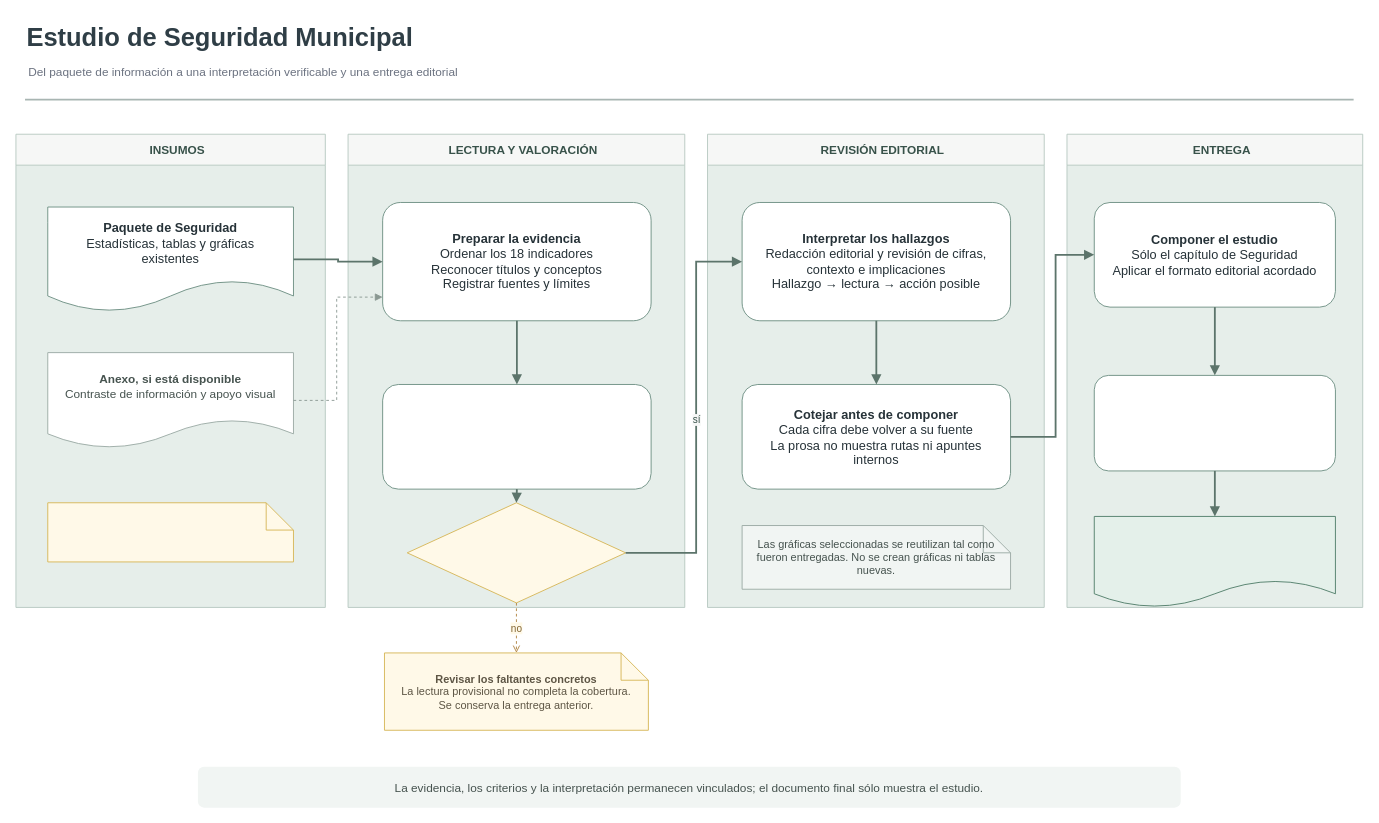
This 1379x823 diagram has some shape labels left out. Each missing label, with the centre of its shape:
Datos municipales en input. Complementos sólo para aclaraciones y faltantes.: (170,532)
Evaluar con criterios revisados Pesos 25 / 35 / 40 Ocho prioritarios y candados: (516,436)
Revisión de salida Formato, variables, procedencia y entrega limpia: (1214,422)
{municipio} Estudio Seguridad.docx Documento final para la consultora: (1214,561)
¿Cobertura suficiente según el modo elegido?: (516,552)
